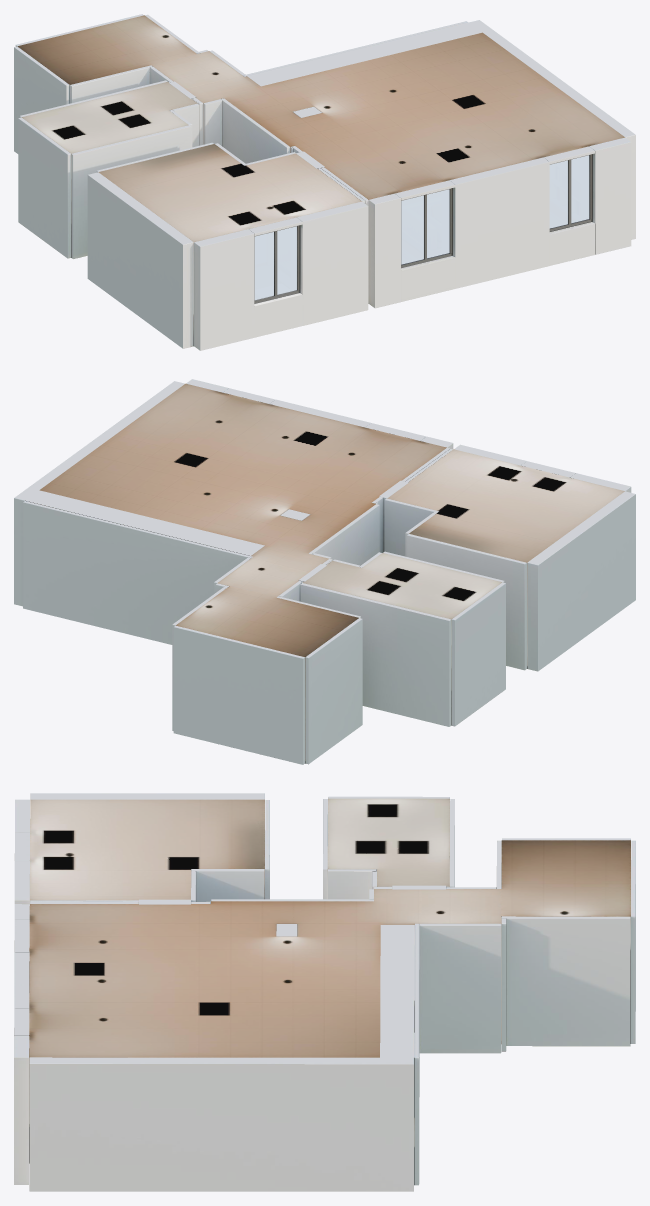
Rendered from flat_baked_wishcap.glb.
3 views of the same model, one above another, from view 1: azimuth 30°, elevation 25°; view 2: azimuth 150°, elevation 25°; view 3: azimuth 270°, elevation 25° (orthographic). The views are drawn at different scales.
Parts seen in each view (by area): view 1: zapec_telo_0, zapec_stropy_3, zapec_zdi_1, sklo_okno_67, sklo_okno_111, sklo_okno_74; view 2: zapec_telo_0, zapec_stropy_3, zapec_zdi_1; view 3: zapec_stropy_3, zapec_telo_0, zapec_zdi_1.
Boxes of the visible parts, bbox=[...] form: zapec_telo_0: bbox=[14, 14, 635, 350]; zapec_stropy_3: bbox=[18, 15, 624, 242]; zapec_zdi_1: bbox=[69, 22, 592, 345]; sklo_okno_67: bbox=[401, 189, 449, 264]; sklo_okno_111: bbox=[254, 226, 296, 300]; sklo_okno_74: bbox=[549, 155, 589, 228]; zapec_telo_0: bbox=[14, 379, 635, 764]; zapec_stropy_3: bbox=[39, 383, 624, 656]; zapec_zdi_1: bbox=[25, 480, 527, 763]; zapec_stropy_3: bbox=[29, 798, 630, 1057]; zapec_telo_0: bbox=[14, 793, 635, 1191]; zapec_zdi_1: bbox=[29, 856, 630, 1184].
Size of the model in its own units: 12.31 by 2.71 by 11.94.
Materials: 10 (8 with a texture image).
